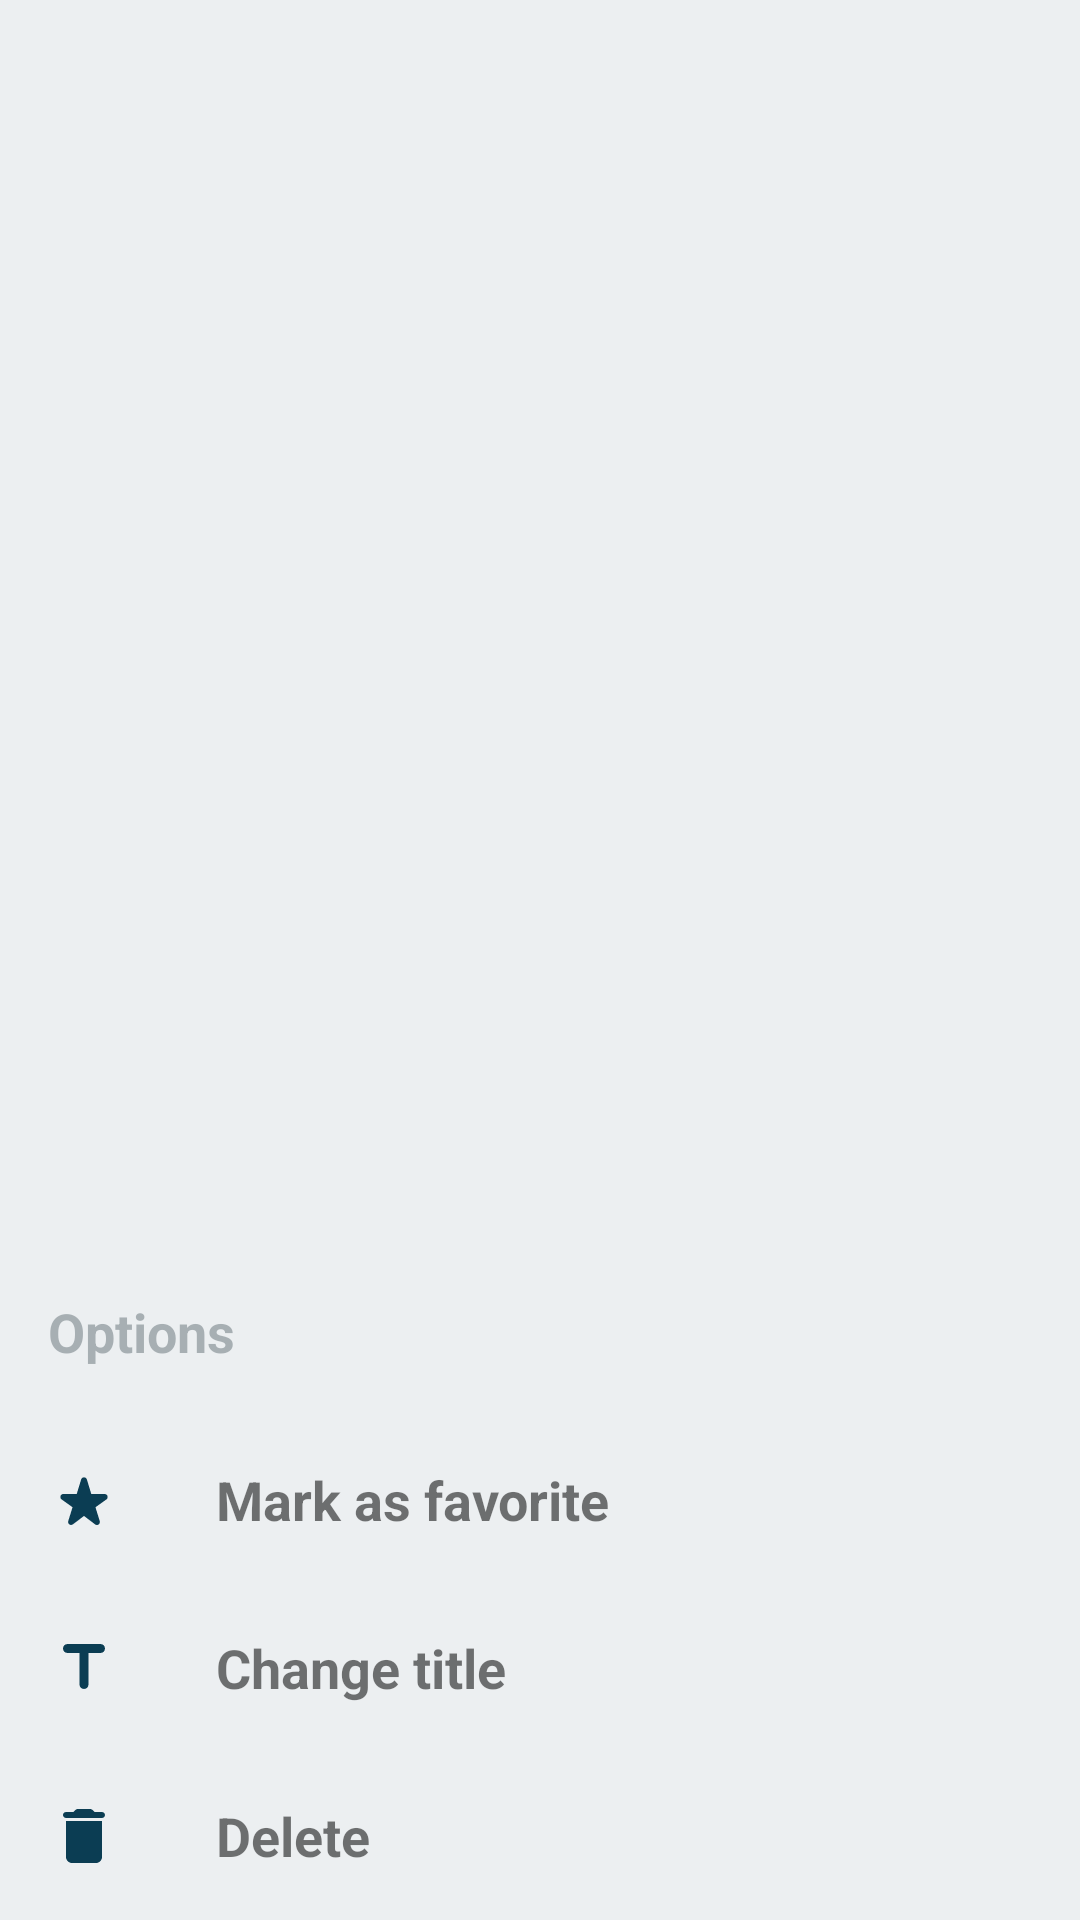

Icon click points for this 1080w x 1920h phone screenshot, format (x,y):
star: (84,1501)
